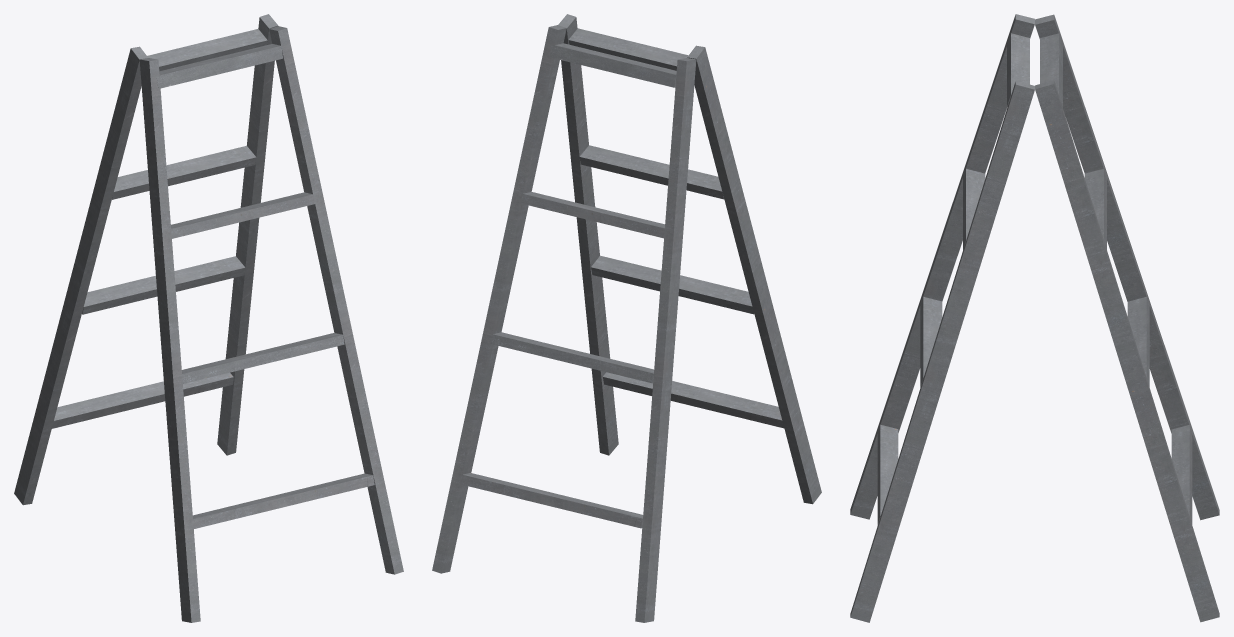
Rendered from SmallLadder2.gltf.
3 renders of one model, left to right at view 1: azimuth 30°, elevation 25°; view 2: azimuth 150°, elevation 25°; view 3: azimuth 270°, elevation 25°, orthographic. The views are drawn at different scales.
Visible parts, largest first — view 1: node1; view 2: node1; view 3: node1.
Boxes of the visible parts, bbox=[...] form: node1: bbox=[14, 14, 403, 622]; node1: bbox=[432, 14, 821, 622]; node1: bbox=[850, 14, 1219, 622].
Bounding box in the file's own units: 1.18 × 2.66 × 1.71.
